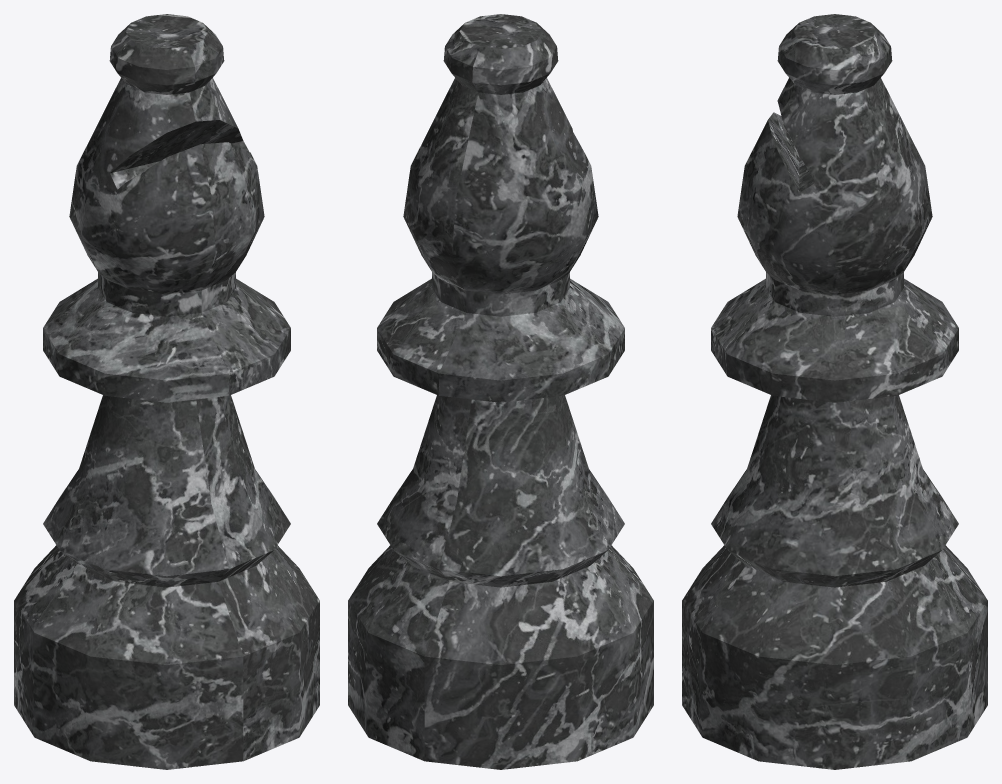
The model's file is b_bishop.glb.
3 views of the same model, side by side, from view 1: azimuth 30°, elevation 25°; view 2: azimuth 150°, elevation 25°; view 3: azimuth 270°, elevation 25° (orthographic).
Parts seen in each view (by area): view 1: Bishop; view 2: Bishop; view 3: Bishop.
Boxes of the visible parts, bbox=[...] form: Bishop: bbox=[14, 14, 319, 769]; Bishop: bbox=[348, 14, 653, 769]; Bishop: bbox=[682, 14, 987, 769].
Size of the model in its own units: 1.1 by 2.67 by 1.1.
Materials: 1 (1 with a texture image).
